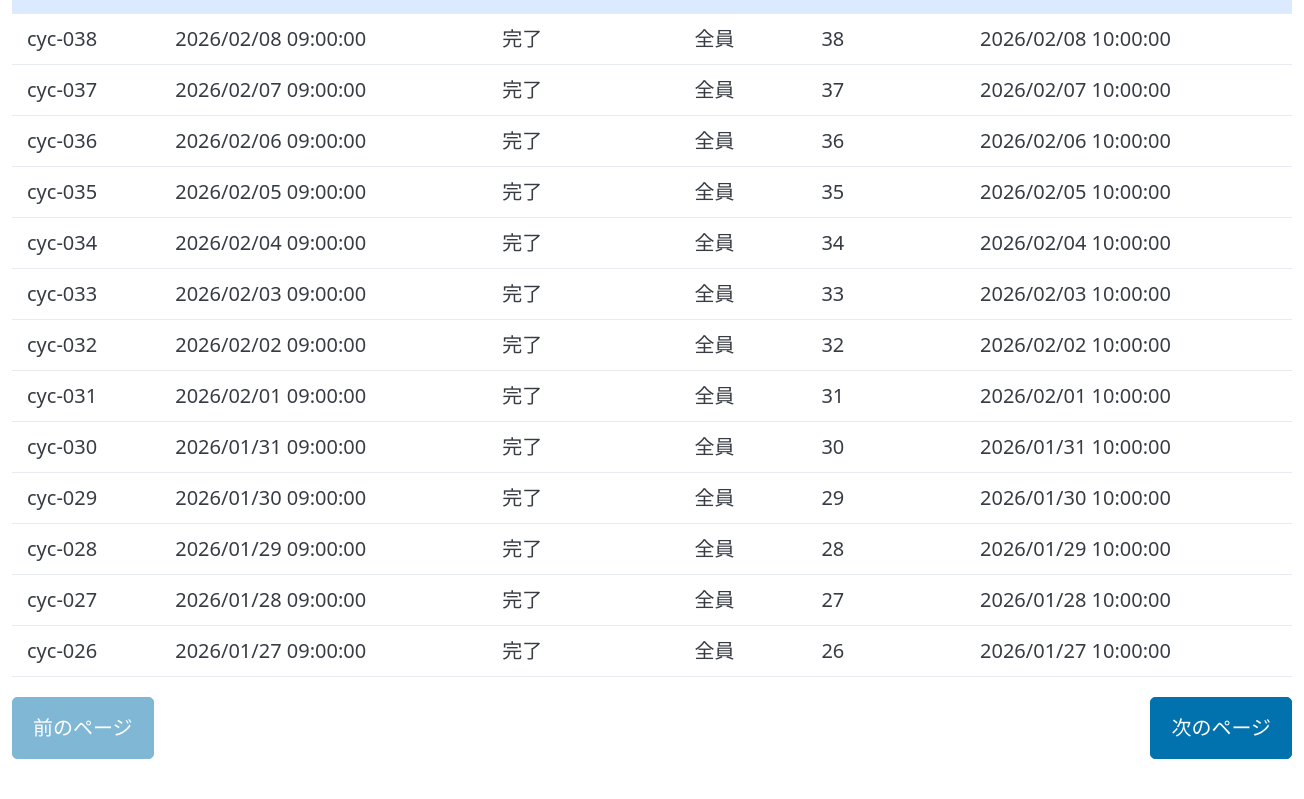
Test: CyclesListPage › 50 件超は 1 ページに 50 件、次ページボタンで残りを表示
(page scrolled)
Expected: the row with test id "cycle-row-cyc-026" is shown, x1=12 y1=625 x2=1292 y2=676
次ページ：残り 25 件（cyc-025 〜 cyc-001）。
What coordinates should you click on to do the following:
click the button with test id "cycles-next-page"
I would click on:
 (1221, 728)
Its box is x1=1150 y1=696 x2=1292 y2=758.
(page scrolled)
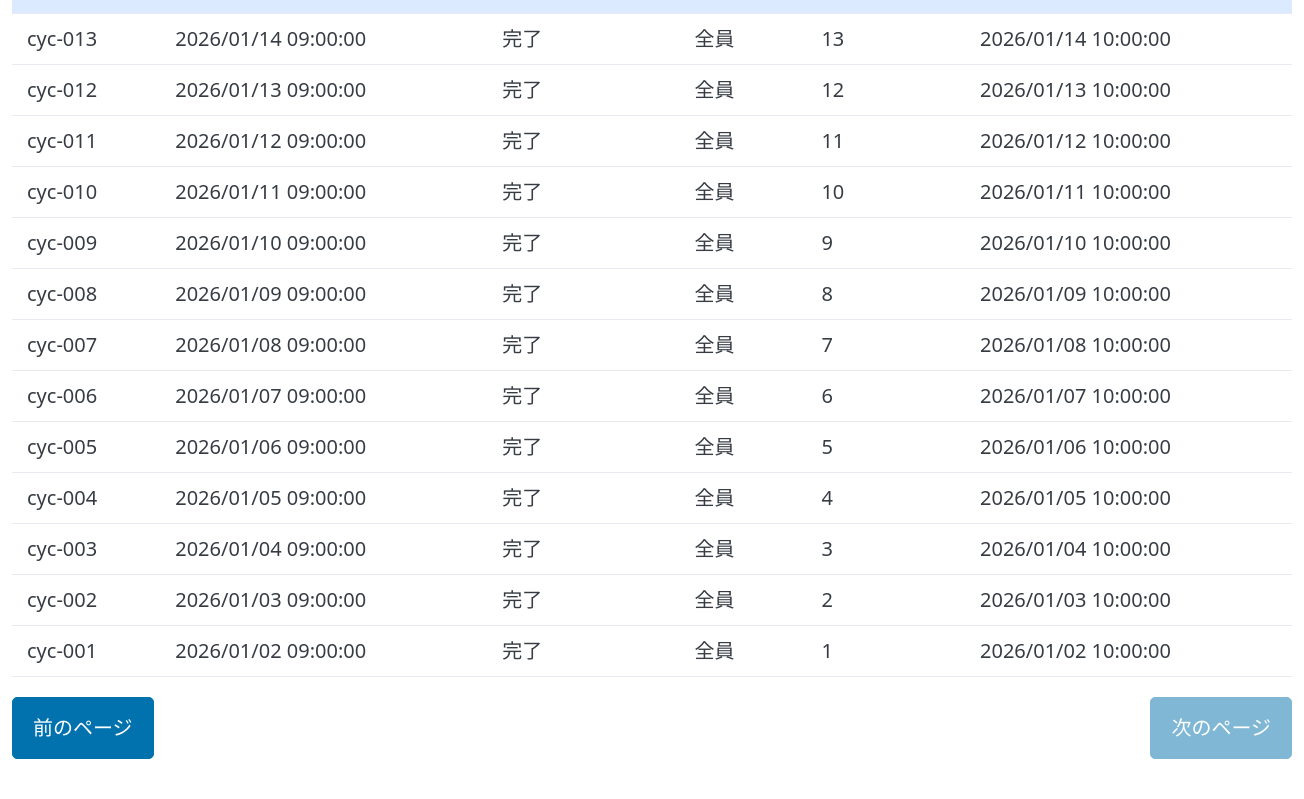
Now the row with test id "cycle-row-cyc-001" is shown, box x1=12 y1=625 x2=1292 y2=676
Now the row with test id "cycle-row-cyc-026" is gone
Now the button with test id "cycles-next-page" is disabled, box x1=1150 y1=696 x2=1292 y2=758
前ページに戻ると 1 ページ目相当が表示される。
What coordinates should you click on to do the following:
click the button with test id "cycles-prev-page"
I would click on:
 (83, 728)
Its box is x1=12 y1=696 x2=154 y2=758.
(page scrolled)
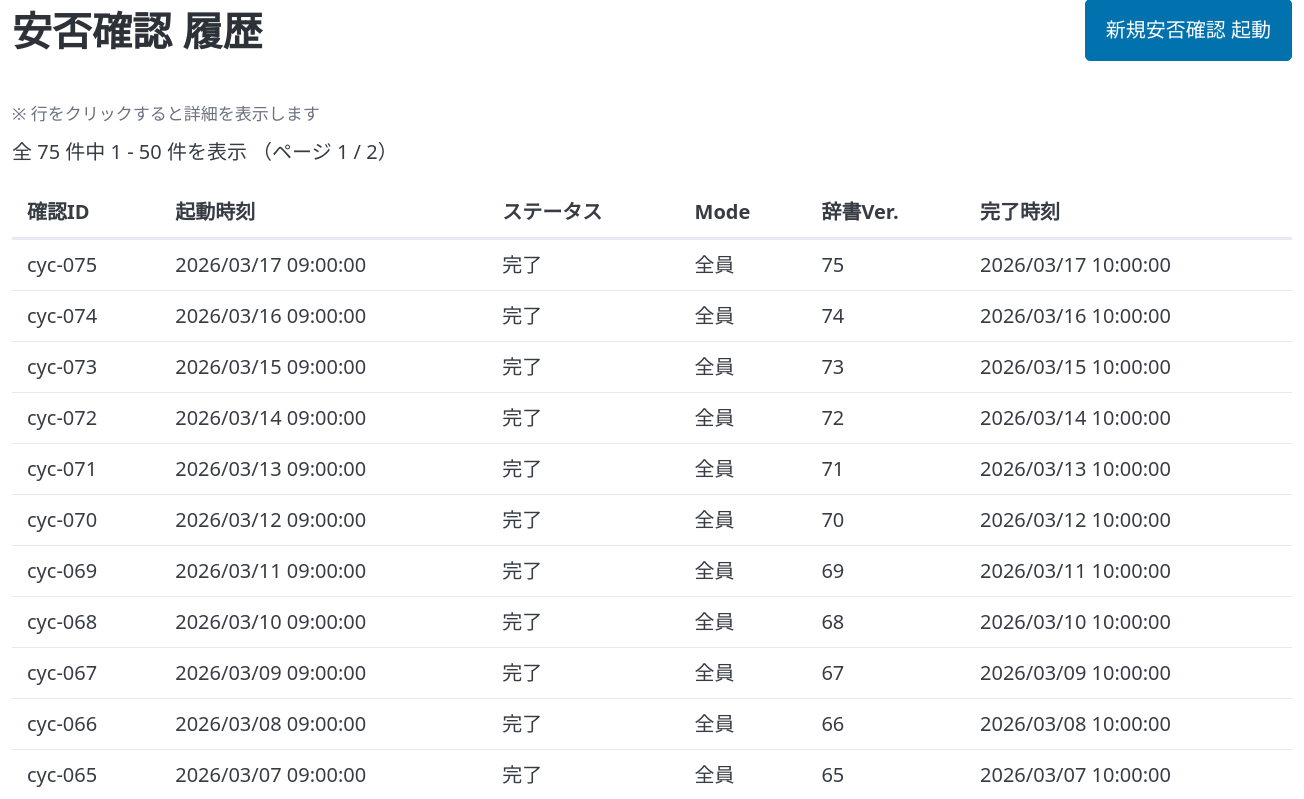
Now the row with test id "cycle-row-cyc-075" is shown, box x1=12 y1=238 x2=1292 y2=290
